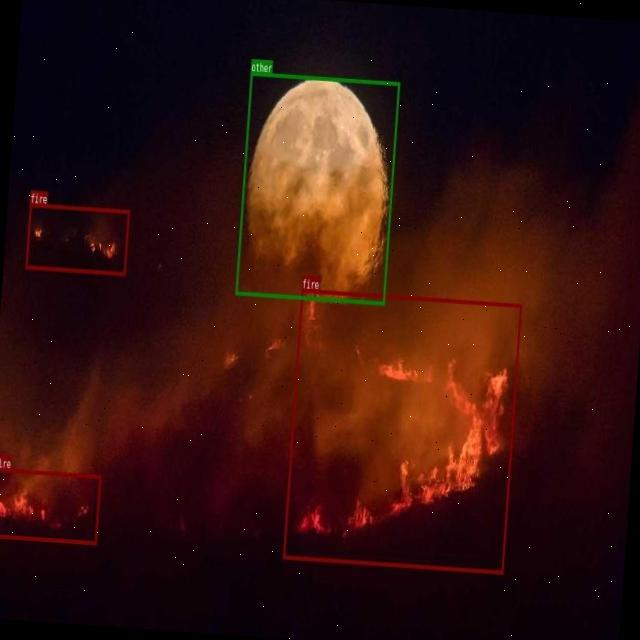fire: (283, 288, 522, 572), (0, 466, 101, 543), (25, 202, 129, 274)
